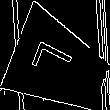L_SE: (34, 42, 84, 90)
